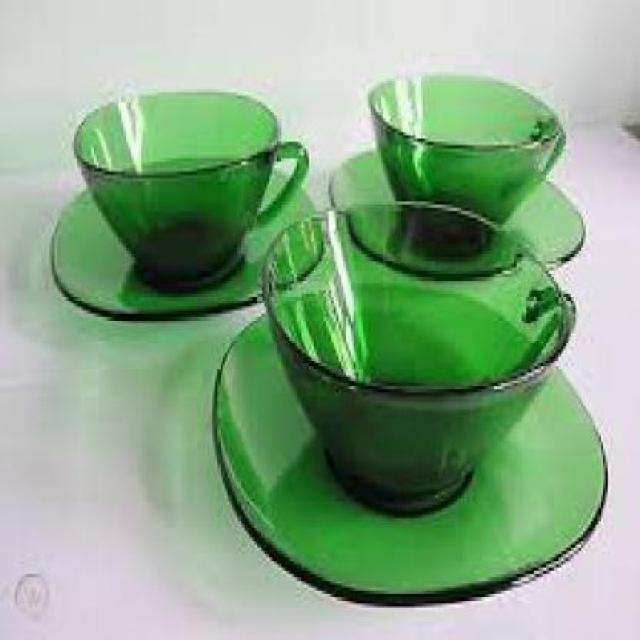GLASS: (210, 280, 608, 608), (259, 197, 573, 508), (71, 88, 307, 281), (47, 158, 319, 320), (365, 72, 564, 251), (326, 145, 583, 277)
